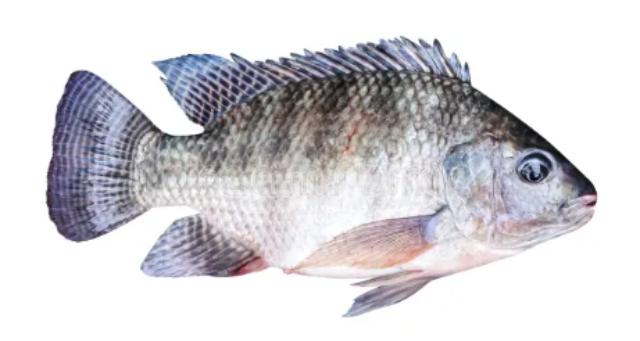Mulut: (534, 174, 620, 240)
Sirip Anal: (135, 210, 269, 286)
Sirip Dada: (280, 206, 450, 282)
Sirip Ekor: (32, 54, 162, 256)
Sirip Perut: (321, 267, 452, 323)
Sirip Punggung: (140, 28, 478, 132)
